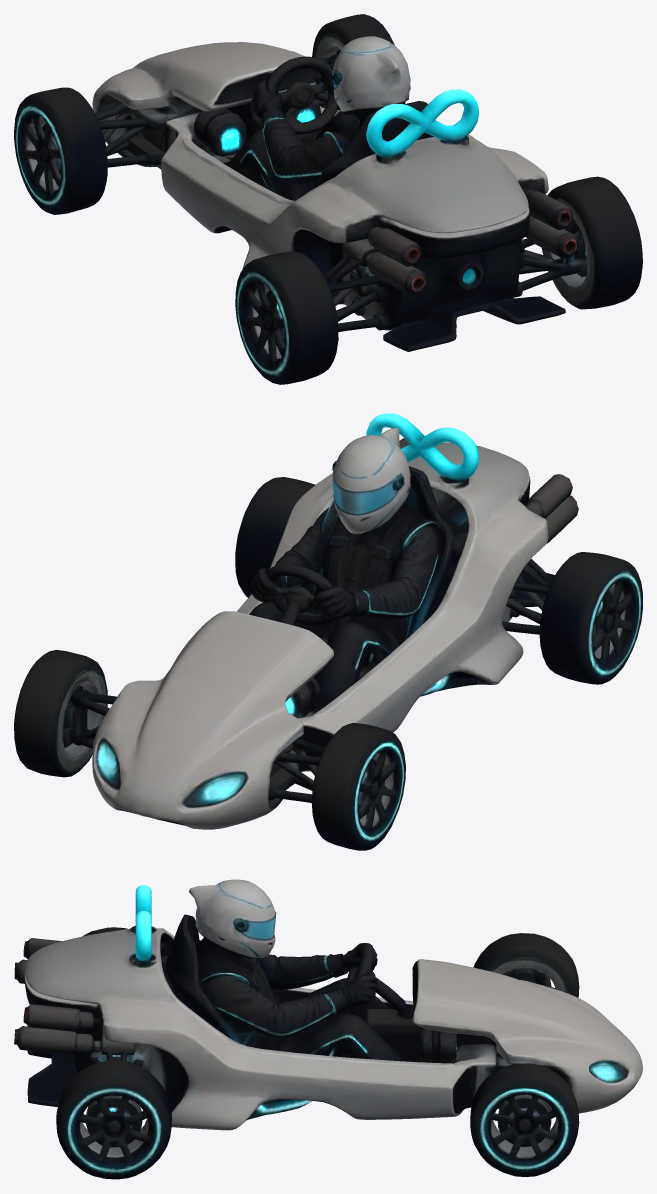
File: eon-final.glb
The picture shows the model from 3 angles, top to bottom: view 1: azimuth 30°, elevation 25°; view 2: azimuth 150°, elevation 25°; view 3: azimuth 270°, elevation 25°; orthographic projection. The views are drawn at different scales.
Visible parts, largest first — view 1: chassis, wheel-rl, wheel-fl, wheel-rr, wheel-fr; view 2: chassis, wheel-rl, wheel-fl, wheel-fr, wheel-rr; view 3: chassis, wheel-rr, wheel-fr, wheel-fl.
Boxes of the visible parts, x1,y1,x2,y2 form: chassis: (92, 36, 578, 351); wheel-rl: (235, 251, 338, 384); wheel-fl: (14, 87, 107, 214); wheel-rr: (541, 176, 642, 309); wheel-fr: (312, 14, 405, 113); chassis: (80, 413, 578, 829); wheel-rl: (539, 552, 642, 684); wheel-fl: (311, 723, 405, 850); wheel-fr: (14, 650, 107, 777); wheel-rr: (235, 477, 315, 597); chassis: (14, 879, 642, 1130); wheel-rr: (56, 1060, 171, 1179); wheel-fr: (470, 1063, 579, 1176); wheel-fl: (473, 933, 579, 997).
Bounding box in the file's own units: 2.61 × 1.76 × 4.5.
Materials: 1 (1 with a texture image).
